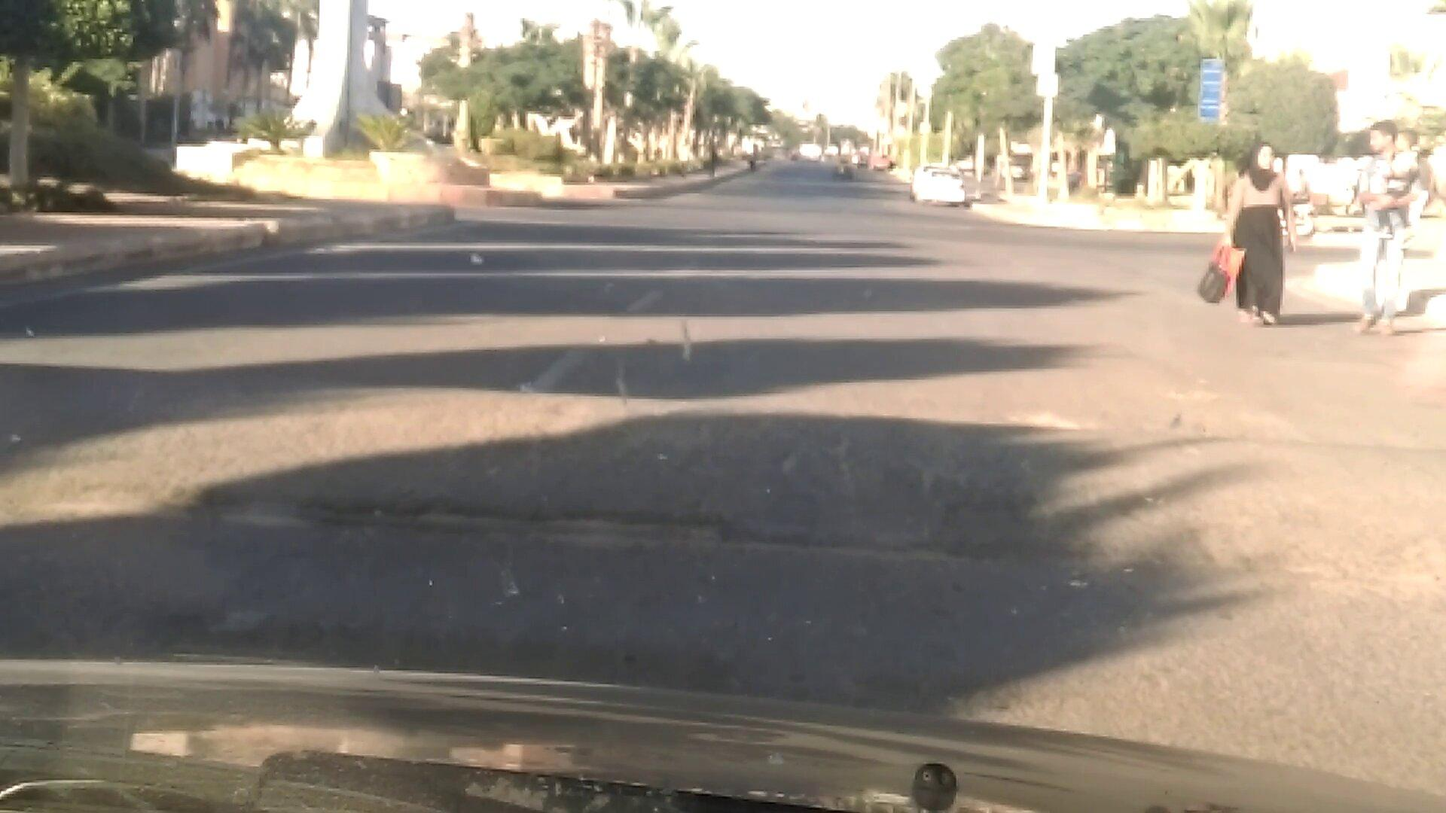Pothole: (201, 480, 1133, 604)
